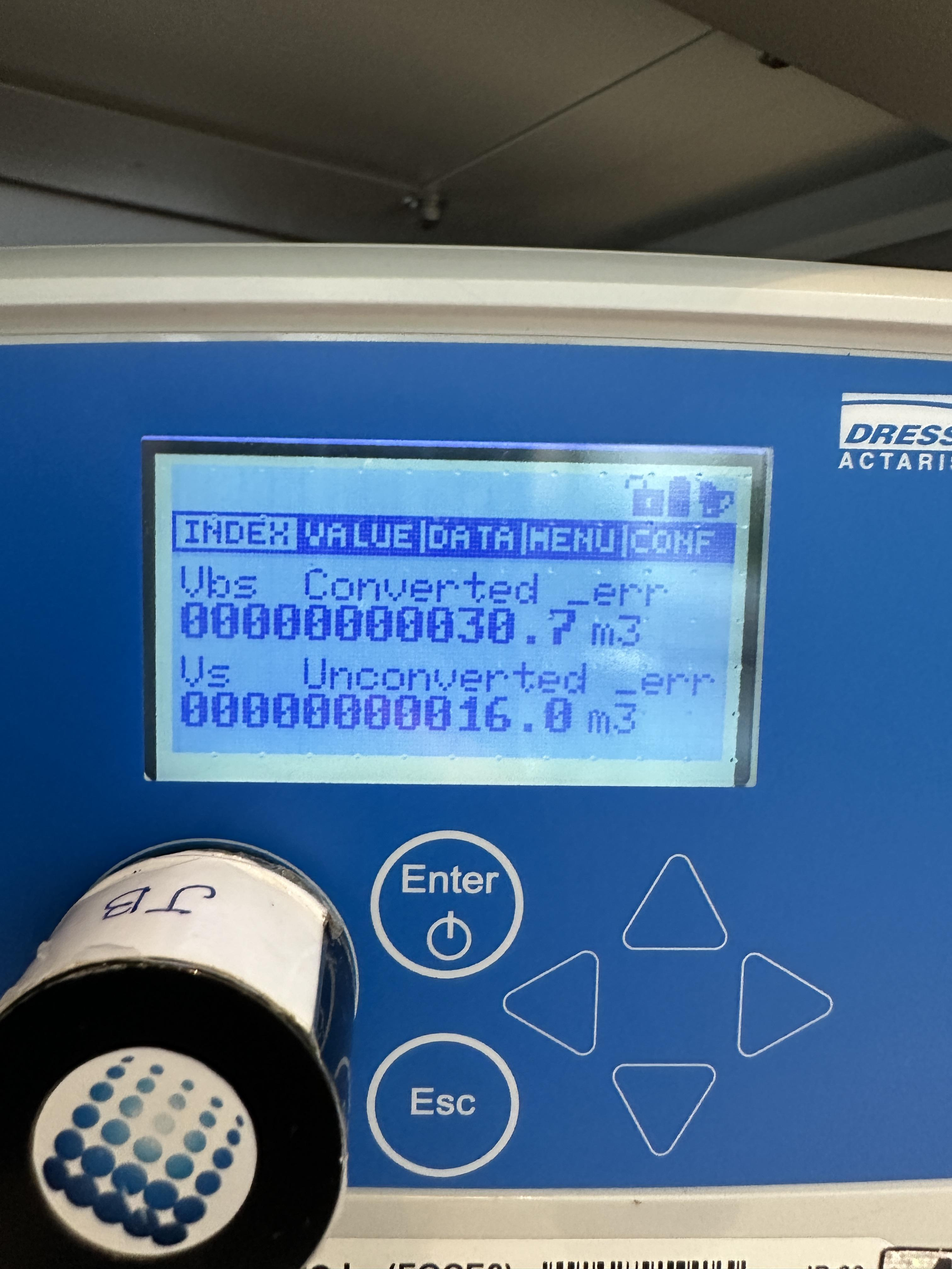digital_screen: (153, 453, 754, 786)
